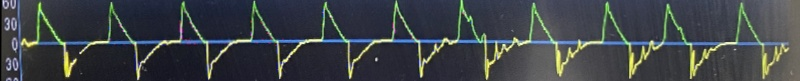hydrop_flow: (413, 0, 800, 81)
normal_flow: (14, 0, 408, 81)
